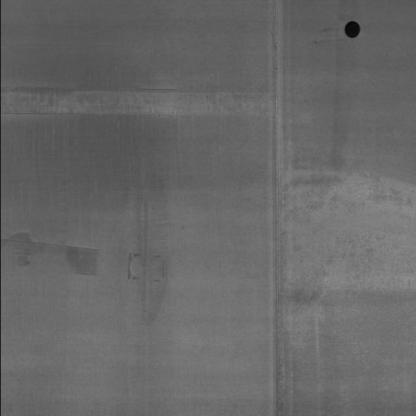punching_hole: (337, 17, 364, 43)
rolled_pit: (2, 82, 256, 124), (1, 234, 169, 287)
welding_line: (260, 1, 292, 414)
